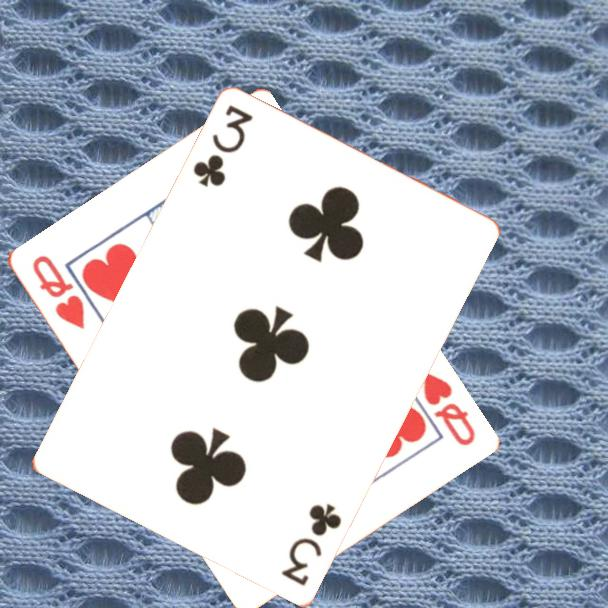c03: (277, 500, 345, 590), (189, 102, 256, 191)
h12: (28, 251, 88, 333), (418, 367, 478, 449)
